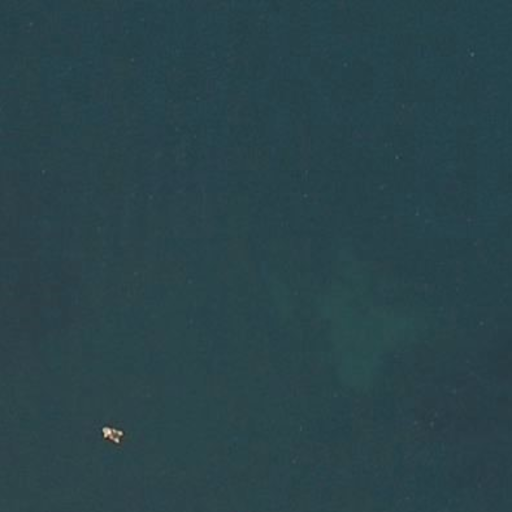ship: (99, 424, 127, 449)
